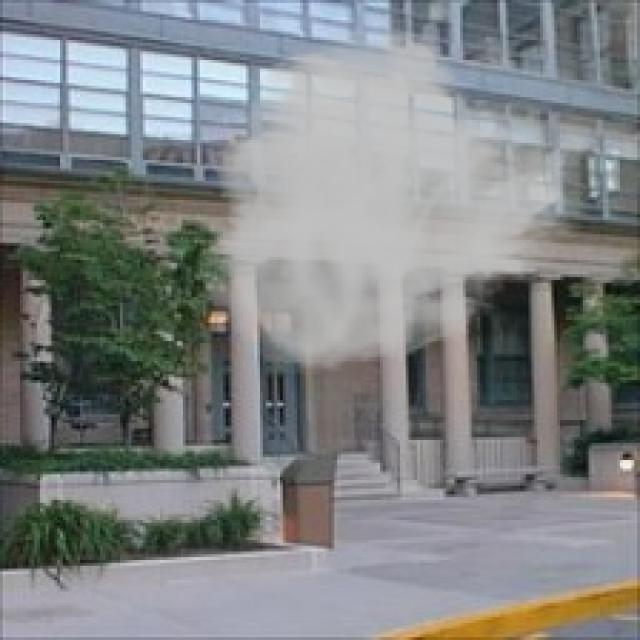Smoke: (194, 26, 592, 377)
